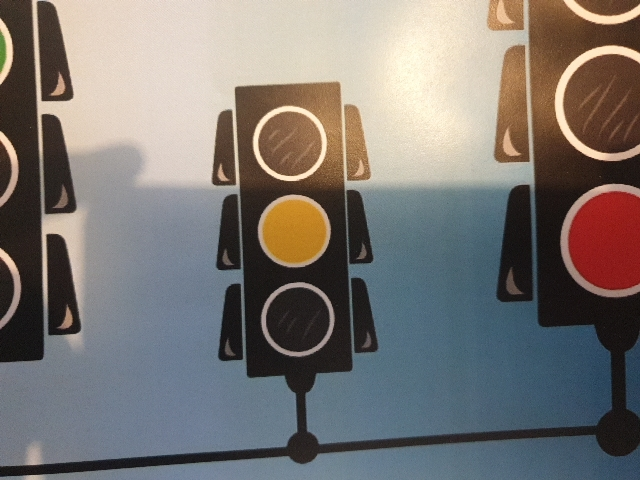amber: (241, 98, 341, 357)
